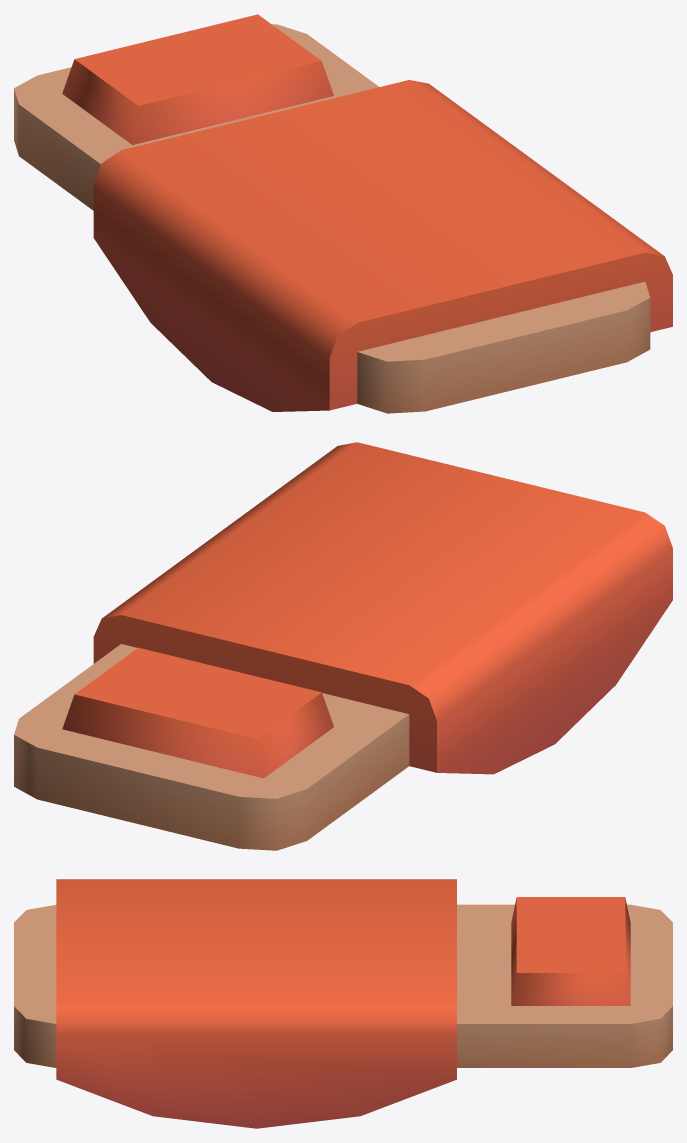
File: bedroll.glb
3 views of the same model, one above another, from view 1: azimuth 30°, elevation 25°; view 2: azimuth 150°, elevation 25°; view 3: azimuth 270°, elevation 25° (orthographic). The views are drawn at different scales.
Parts seen in each view (by area): view 1: blanket, bedroll; view 2: blanket, bedroll; view 3: blanket, bedroll.
Boxes of the visible parts, x1,y1,x2,y2 form: blanket: (93,80,672,411); bedroll: (14,14,650,413); blanket: (93,442,672,774); bedroll: (14,644,409,850); blanket: (56,879,456,1128); bedroll: (14,897,672,1067).
Bounding box in the file's own units: 0.3104 × 0.1248 × 0.6076.
1 material, 1 textured.
